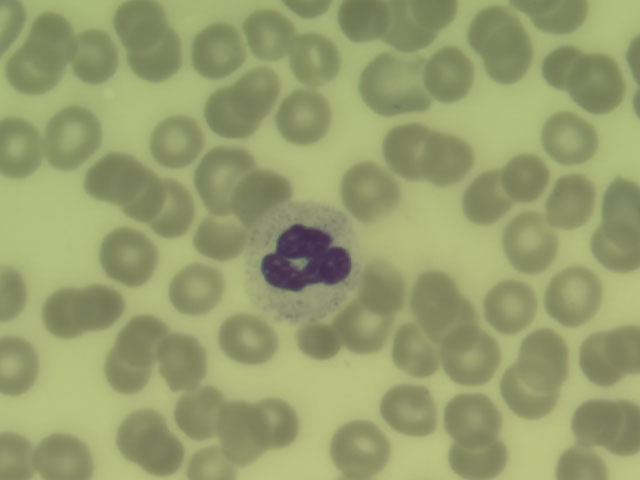RBC: (194, 142, 248, 212), (44, 107, 102, 168), (338, 164, 400, 218), (328, 421, 390, 475), (442, 392, 504, 446), (541, 272, 603, 326), (501, 215, 563, 269), (538, 173, 600, 227), (540, 113, 602, 167), (567, 58, 629, 112), (477, 33, 539, 87), (463, 6, 525, 60), (414, 49, 476, 103), (361, 58, 423, 112), (186, 22, 248, 76), (217, 316, 279, 370), (168, 386, 230, 440), (112, 406, 174, 460), (151, 336, 213, 390), (98, 227, 160, 281), (124, 27, 186, 81), (378, 383, 440, 437), (272, 88, 334, 142), (379, 118, 441, 172), (417, 132, 479, 186), (479, 279, 541, 333), (441, 330, 503, 384), (504, 363, 558, 424), (380, 1, 442, 54), (34, 426, 96, 479), (166, 262, 227, 315), (514, 328, 570, 385), (459, 169, 516, 224), (214, 404, 271, 459), (82, 152, 139, 205), (1, 110, 44, 180), (254, 394, 305, 453), (127, 431, 189, 479), (70, 28, 120, 87), (599, 173, 640, 243), (286, 28, 340, 81), (151, 114, 204, 167), (102, 342, 158, 392), (536, 43, 593, 92), (38, 282, 87, 339), (202, 86, 254, 139), (336, 302, 388, 355), (243, 9, 296, 60), (350, 259, 403, 310), (389, 321, 438, 376), (1, 336, 45, 397), (410, 267, 461, 319), (233, 165, 294, 208), (113, 1, 165, 51), (7, 44, 57, 96), (149, 179, 198, 232), (590, 225, 640, 276), (567, 393, 616, 444), (78, 280, 126, 332), (189, 217, 245, 261), (119, 311, 176, 354), (27, 11, 76, 58), (232, 68, 277, 118), (117, 170, 167, 215), (501, 153, 549, 198), (338, 1, 389, 43), (530, 1, 591, 36), (607, 396, 640, 460), (451, 443, 507, 479), (576, 329, 612, 385), (607, 323, 640, 384), (1, 425, 35, 480), (293, 324, 338, 365), (552, 448, 611, 479), (180, 448, 238, 479), (1, 266, 32, 324), (407, 1, 468, 27), (275, 1, 338, 21)
WBC: (246, 206, 360, 315)
